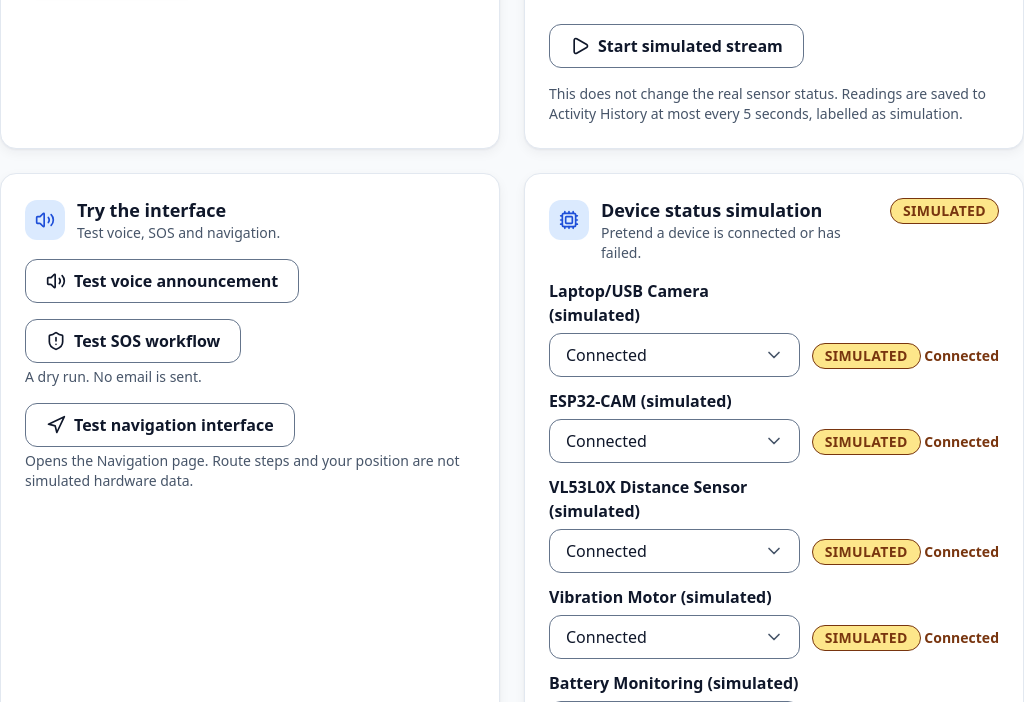
Test: Simulation tools on the AI page › SOS dry run shows the guardian, records a simulation event and says nothing was sent
(page scrolled)
Click the button "Test SOS workflow".
click(133, 341)  # box [25,319,241,363]
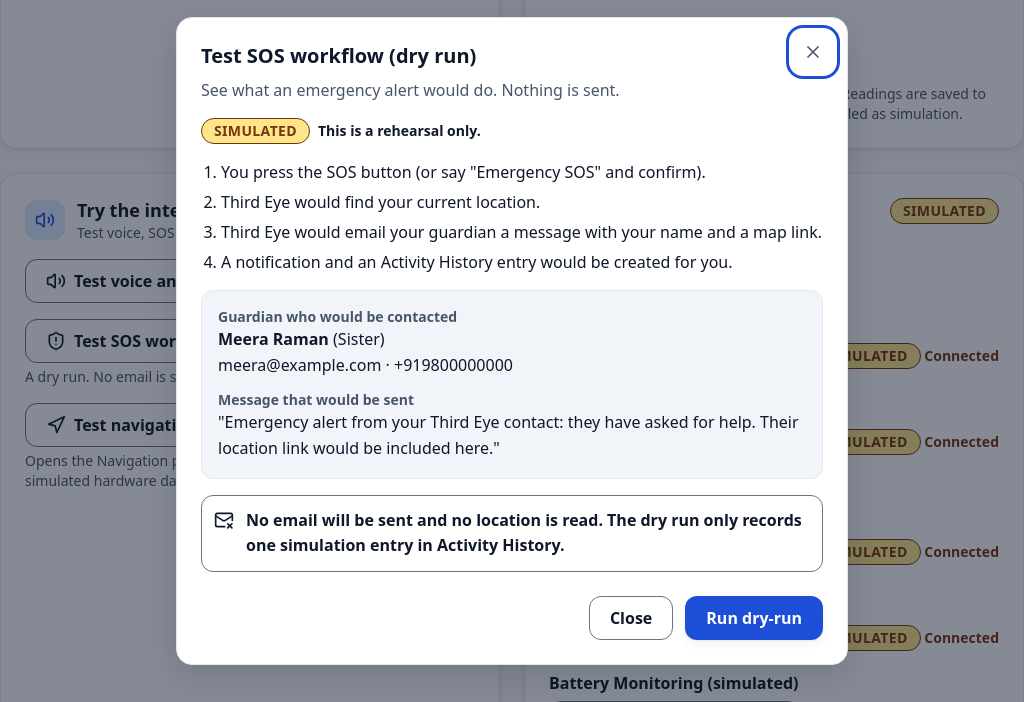
Expected: the text "Meera Raman" is shown, [218,328,329,350]
Expected: the text "No email will be sent" is shown, [246,509,802,556]
Click the button "Run dry-run".
click(754, 618)  # box [685,596,823,640]
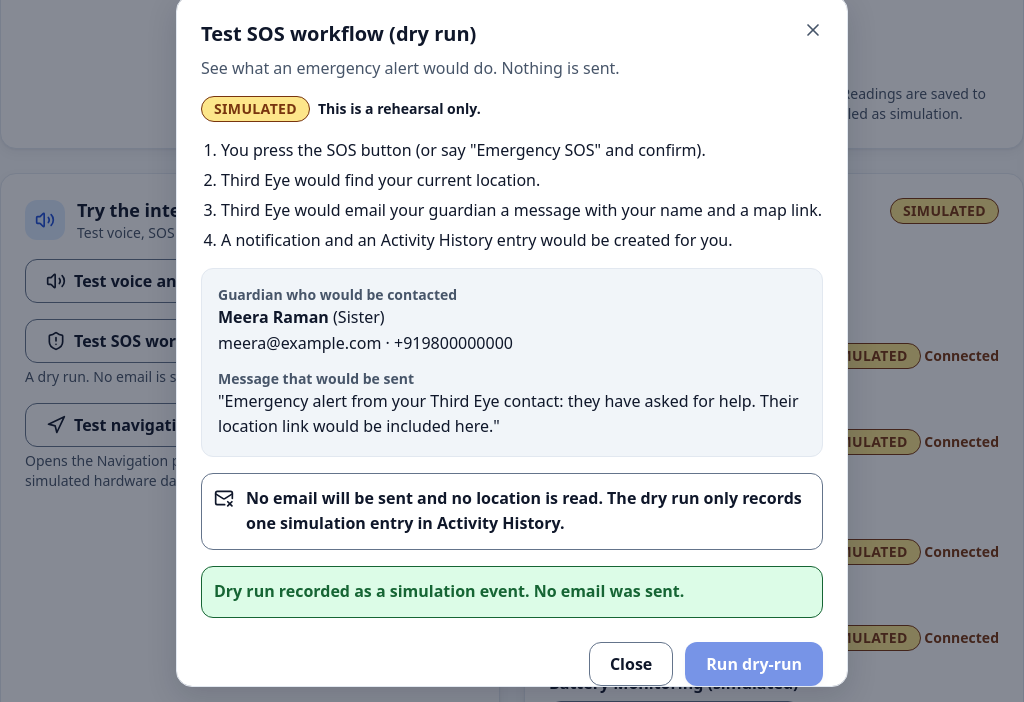
Expected: the text "Dry run recorded as a simulation event. No email was sent." is shown, [201,566,823,618]
